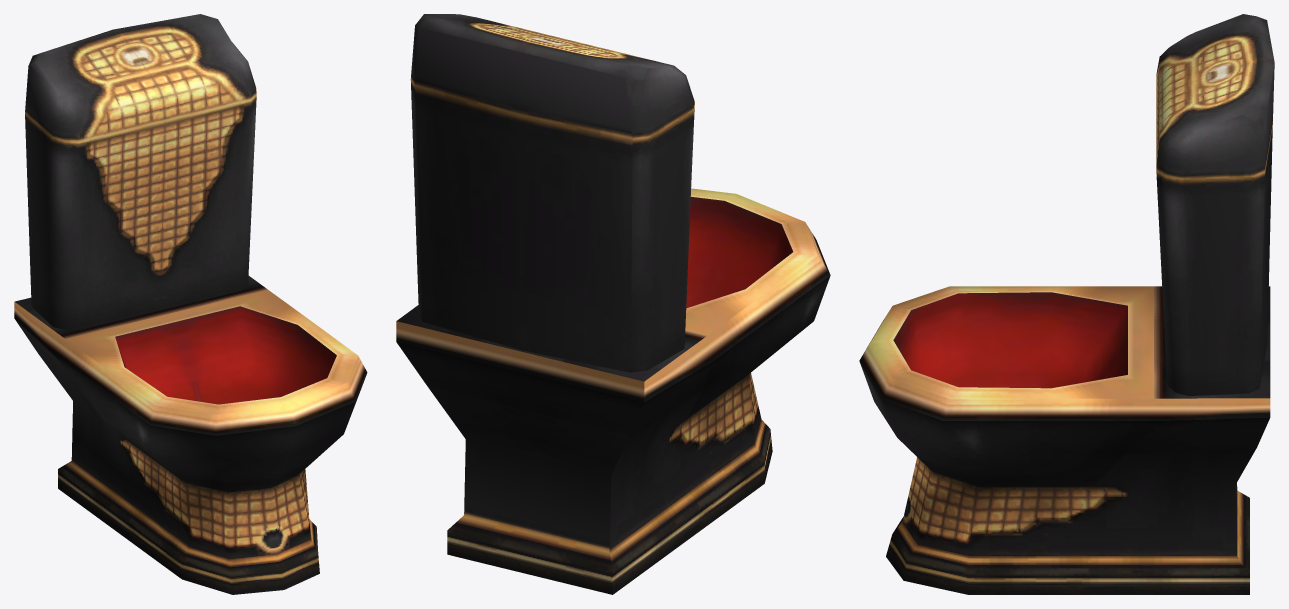
The model's file is furni_0201215.FBX.
3 renders of one model, left to right at view 1: azimuth 30°, elevation 25°; view 2: azimuth 150°, elevation 25°; view 3: azimuth 270°, elevation 25°, orthographic. The views are drawn at different scales.
Visible parts, largest first — view 1: furni_0201215; view 2: furni_0201215; view 3: furni_0201215.
Boxes of the visible parts, left/top/right/bottom form: furni_0201215: left=14, top=14, right=367, bottom=594; furni_0201215: left=396, top=14, right=830, bottom=594; furni_0201215: left=859, top=14, right=1274, bottom=594.
Bounding box in the file's own units: 56.26 × 109 × 82.06.
1 material, 1 textured.
